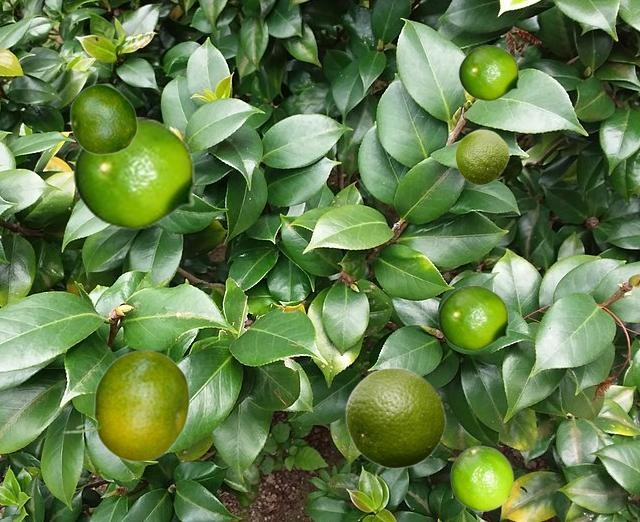calamansi: (72, 117, 208, 229), (61, 349, 189, 461), (345, 366, 445, 468), (437, 285, 516, 350), (69, 83, 137, 154), (450, 445, 513, 510), (458, 45, 525, 100), (455, 129, 508, 184)
